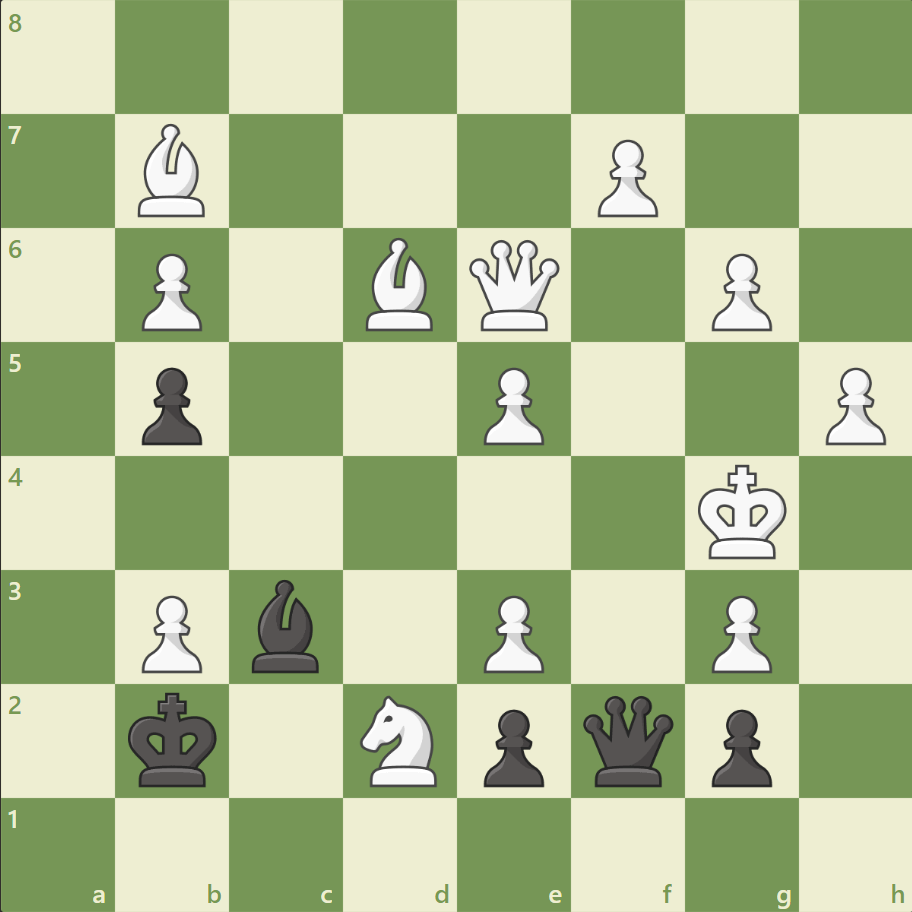B: (358, 233, 442, 336), (131, 120, 215, 222)
K: (692, 458, 792, 566)
N: (351, 688, 449, 791)
P: (133, 246, 208, 337), (701, 246, 776, 337), (474, 359, 549, 450), (133, 586, 208, 677), (474, 586, 549, 677), (701, 586, 776, 677), (588, 132, 662, 223), (815, 359, 889, 450)
Q: (464, 236, 563, 335)
b: (244, 574, 328, 676)
k: (124, 685, 224, 793)
p: (133, 359, 208, 450), (474, 700, 549, 791), (701, 700, 776, 791)
q: (578, 690, 677, 789)
